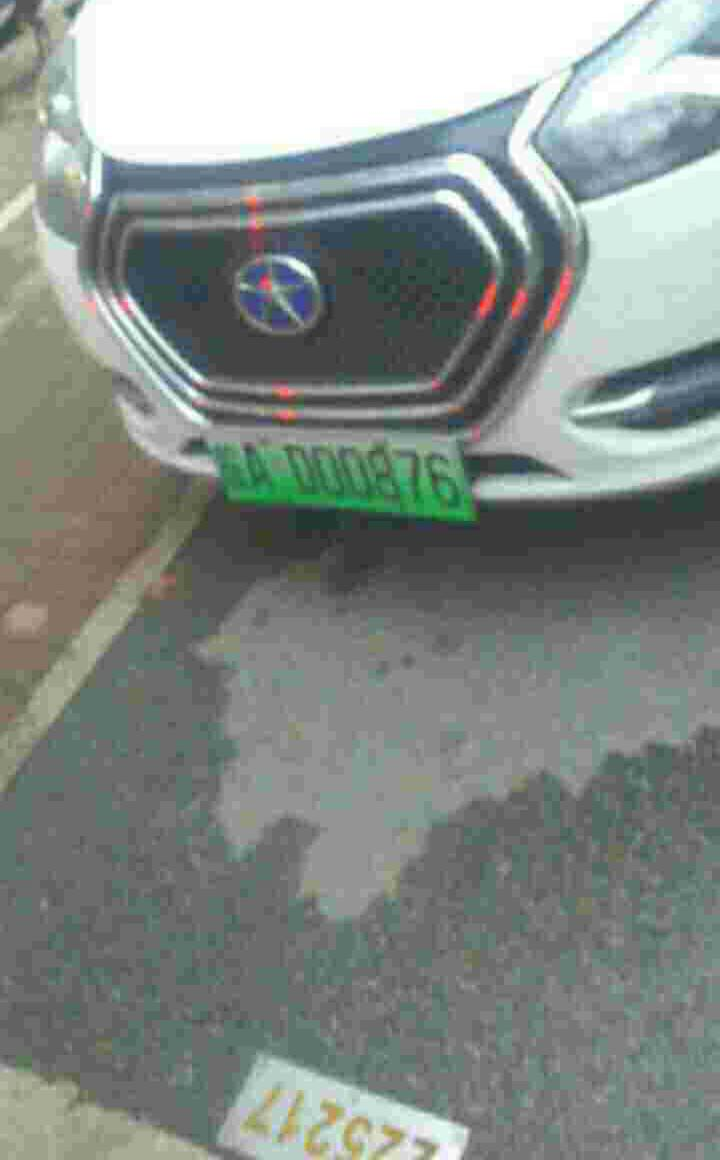car: (221, 423, 468, 518)
